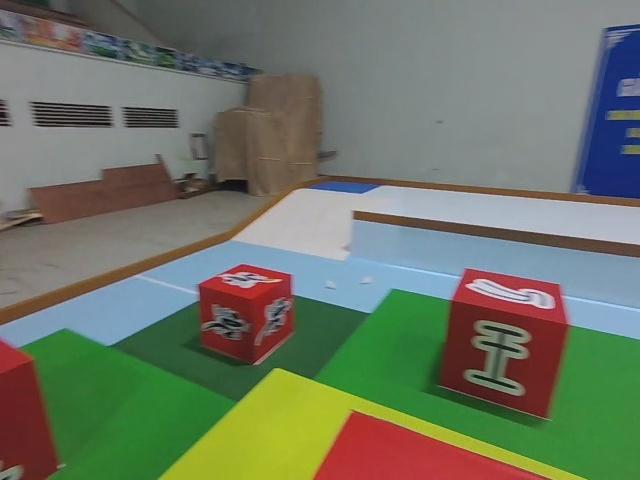R1: (198, 263, 291, 368)
R2 Fake: (437, 268, 570, 422)
